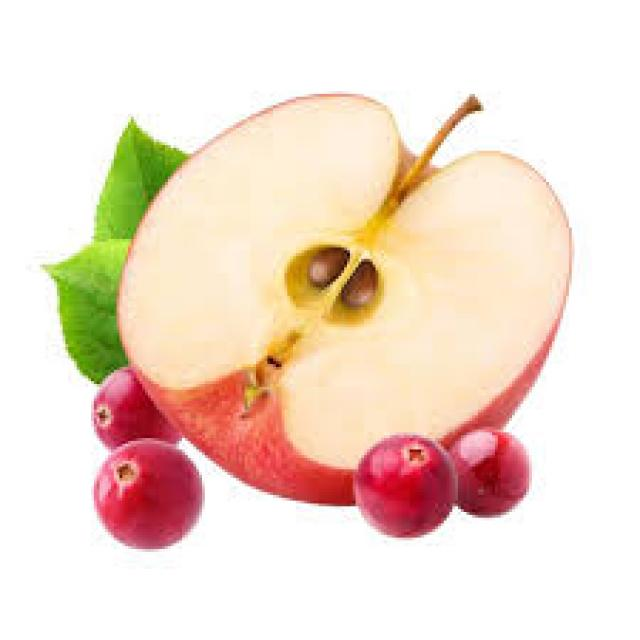Apple: (118, 94, 570, 460)
